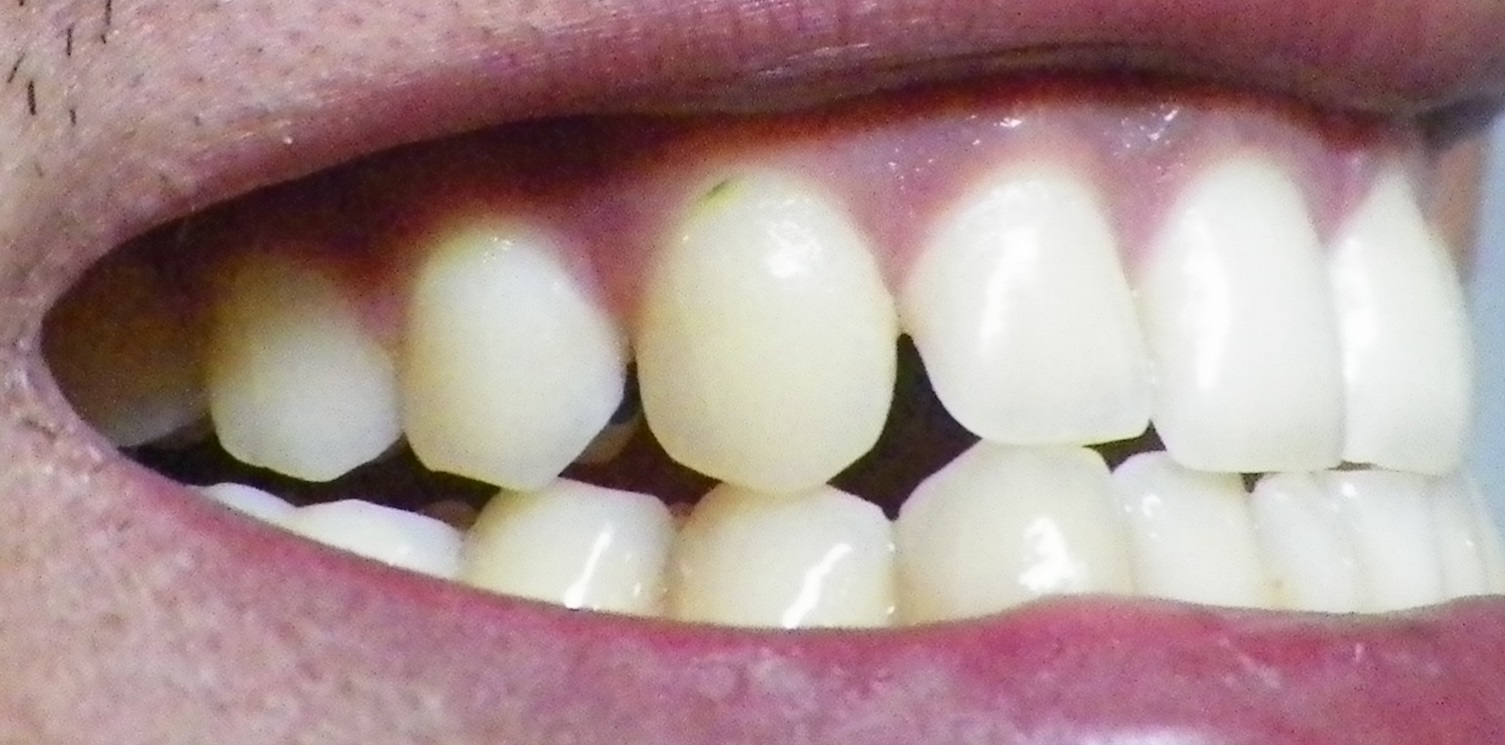boca: (69, 145, 1497, 625)
